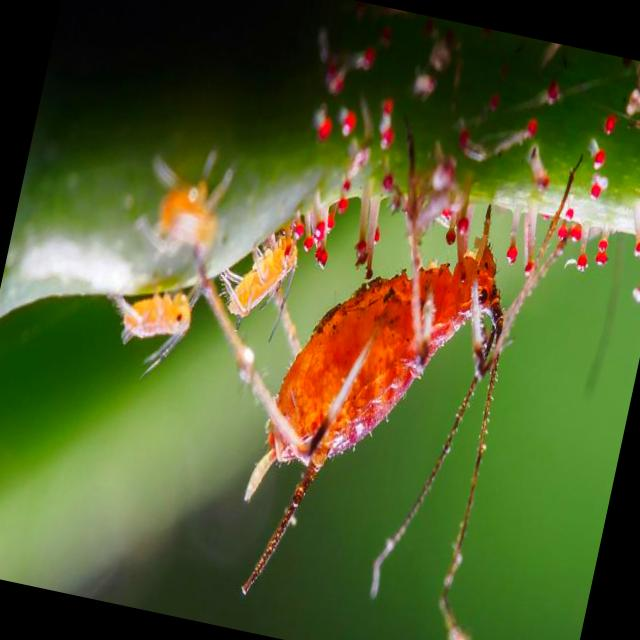Aphids: (186, 182, 550, 565), (90, 256, 212, 404), (214, 208, 312, 348)
